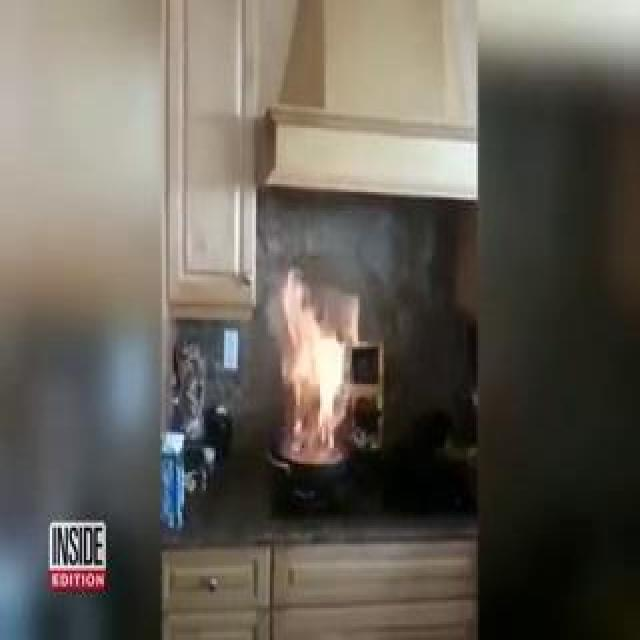Fire: (274, 248, 364, 469)
